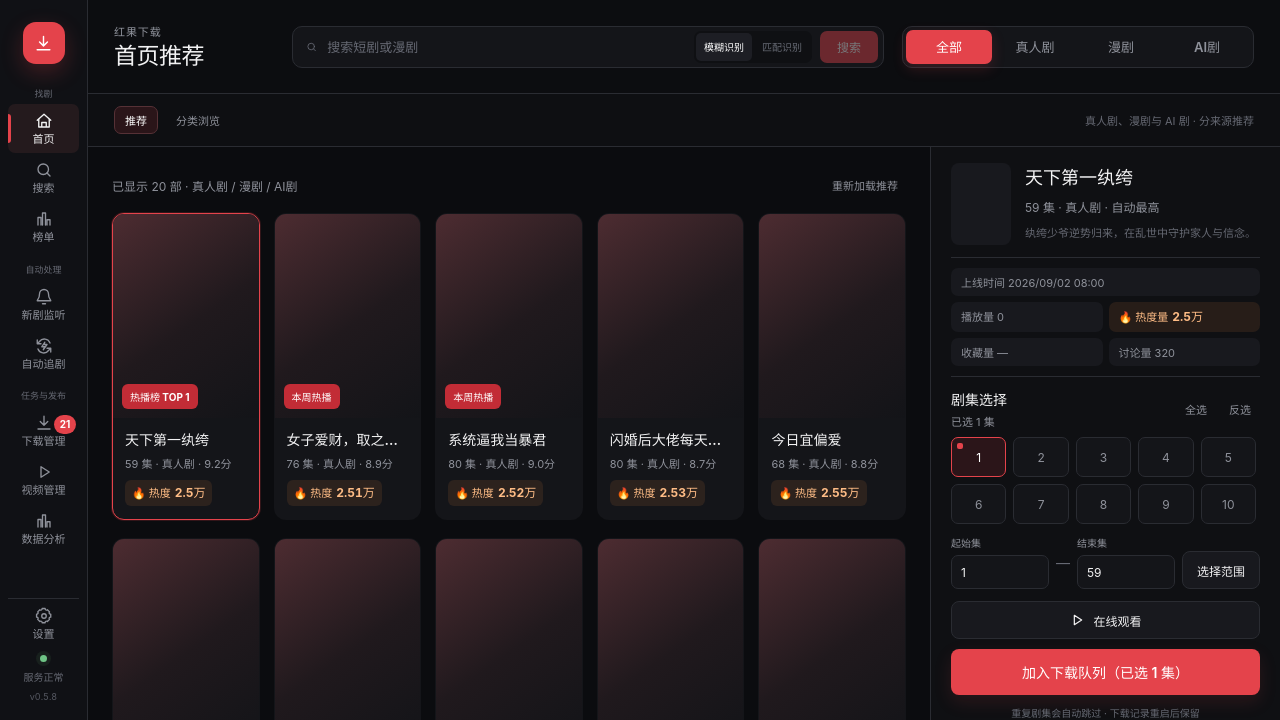
Test: App preview workflow › preserves the chosen download and filter after leaving and returning to download management
Click the button "下载管理 21": (44, 430) [8,406,79,455]
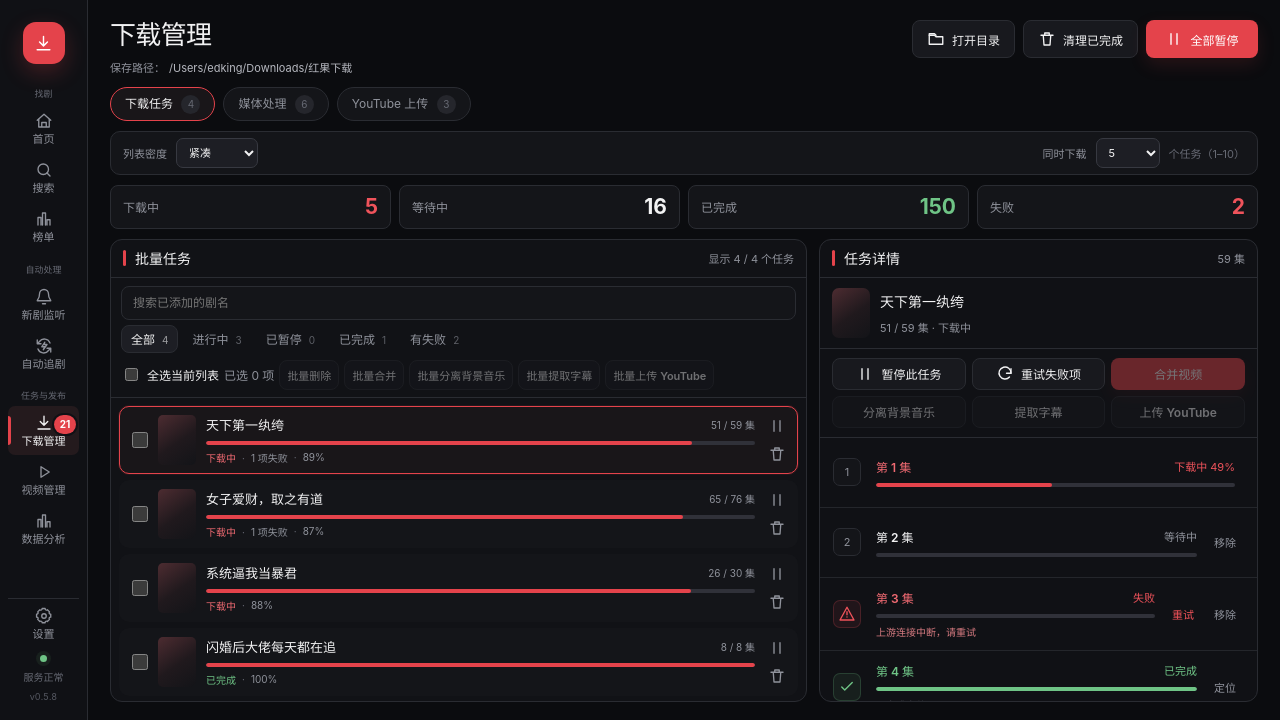
Click the button with aria-label "任务详情": (457, 514) [152,481,761,547]
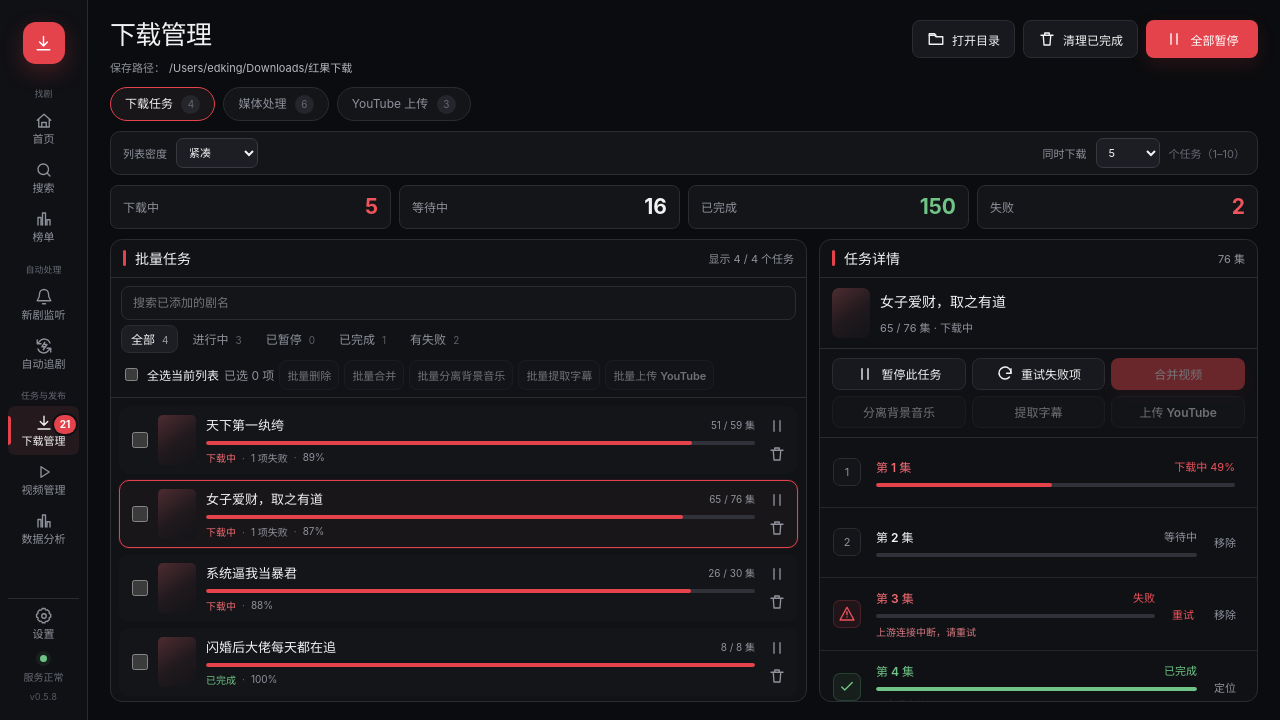
In the search field named "搜索下载任务": (459, 303) [121,286,796,320], type "女子爱财，取之有道"
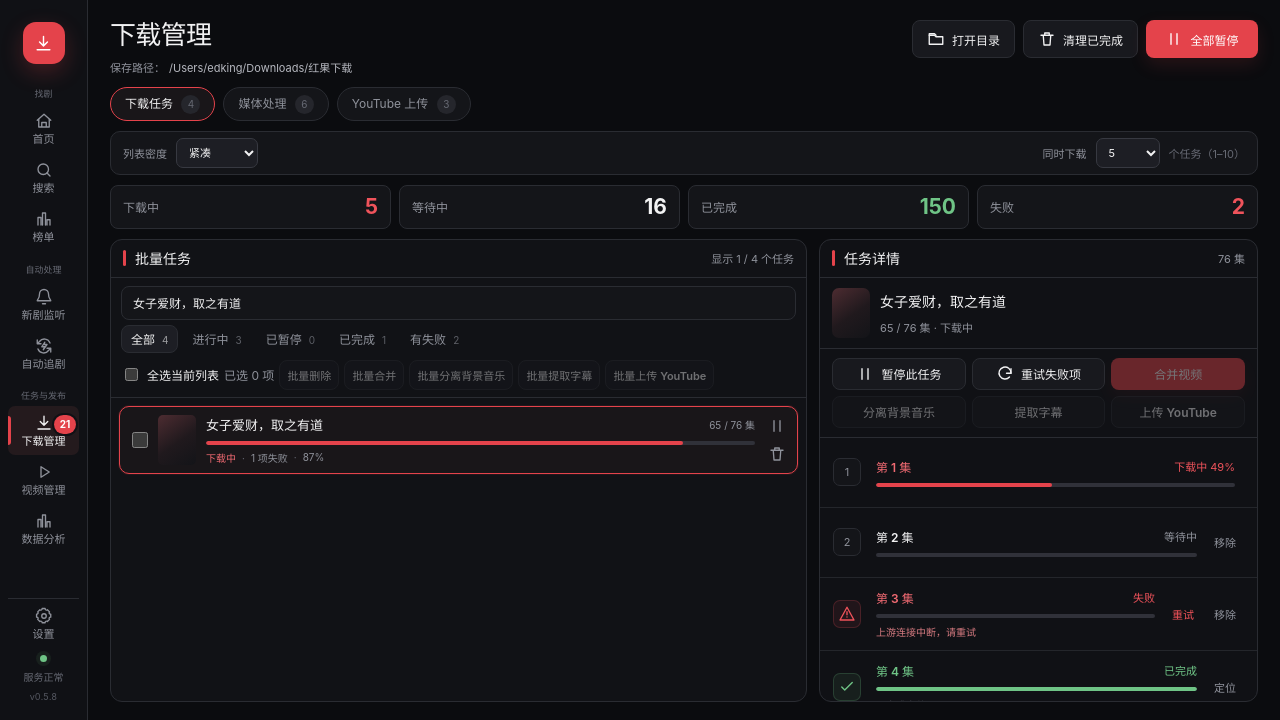
Click the button "首页": (44, 128) [8,104,79,153]
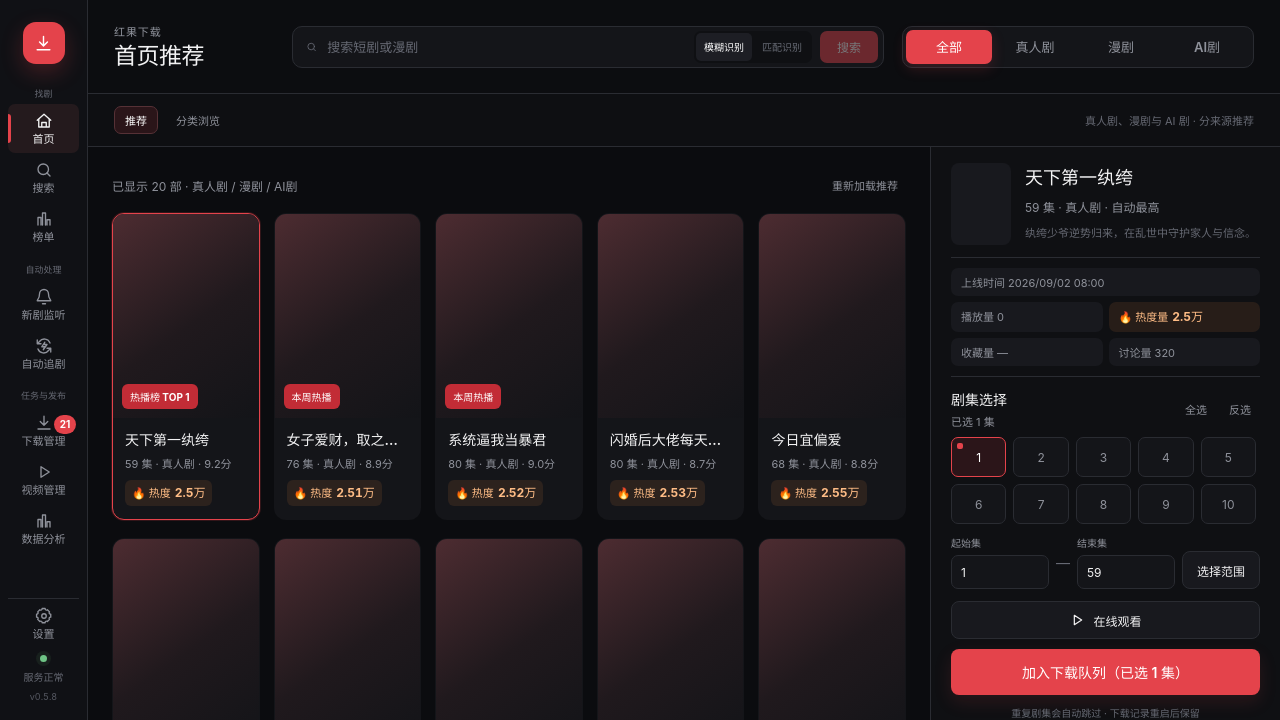
Click the button "下载管理 21": (44, 430) [8,406,79,455]
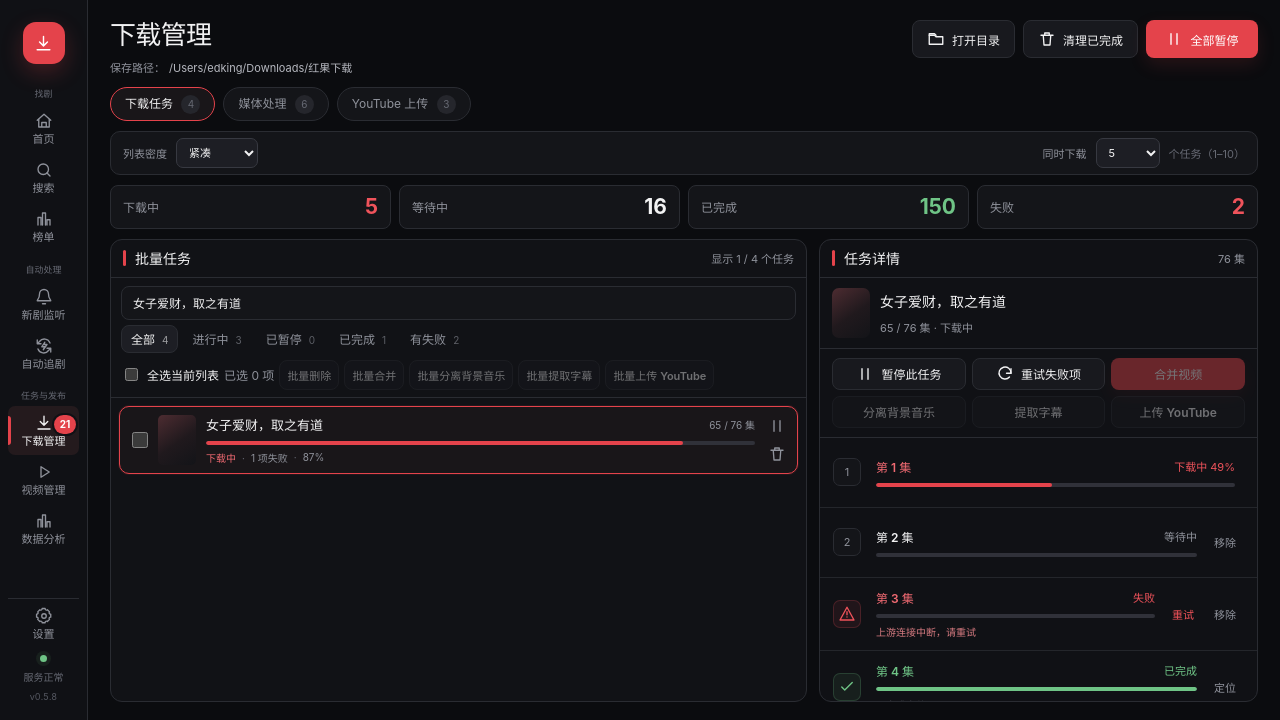
Expected: the heading "女子爱财，取之有道" below "任务详情" is shown, [880,293,1006,310]
